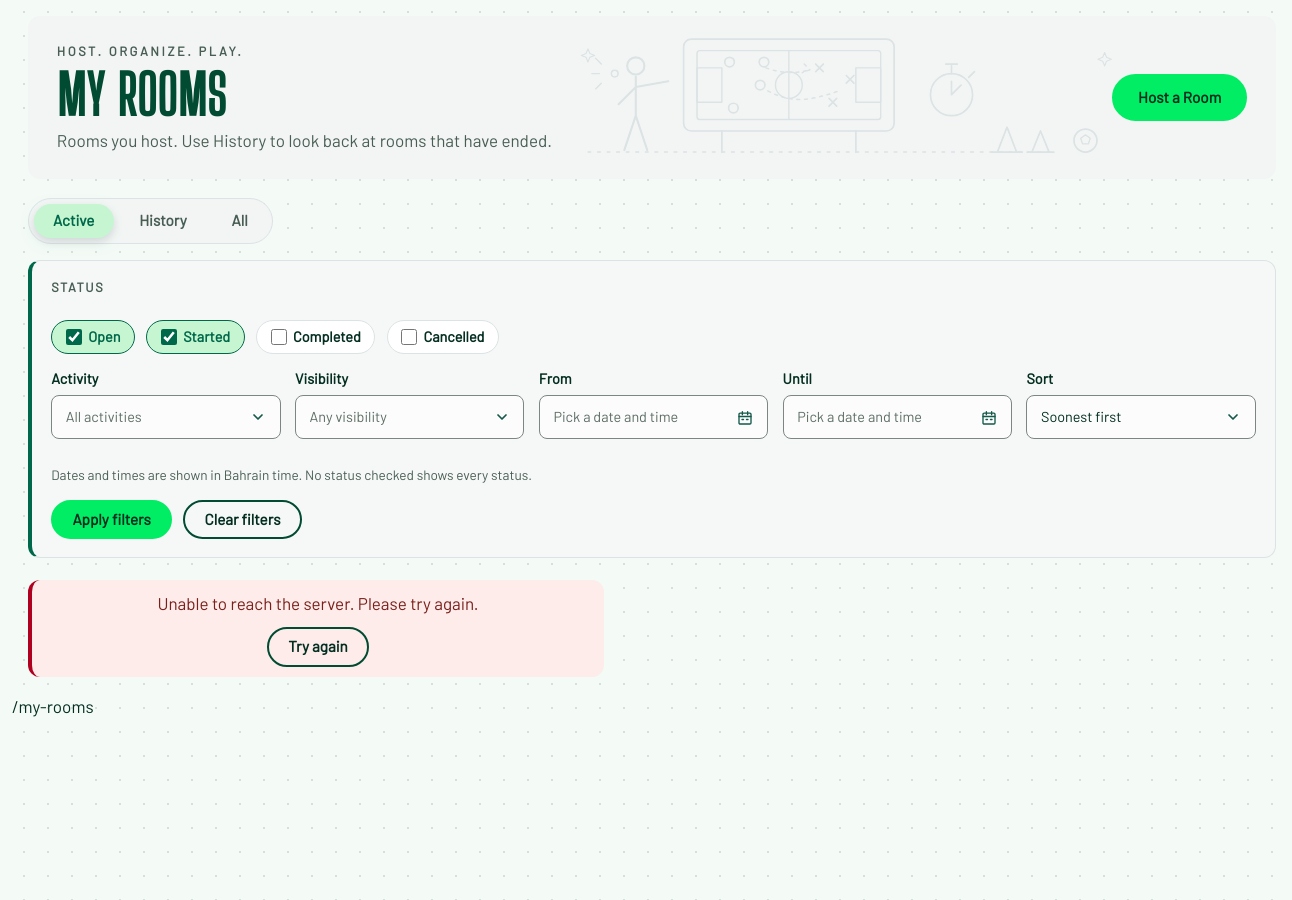
Test: My rooms page › shows a failed request with a retry button
expect the text "Unable to reach the server. Please try again." is shown: met, box [157, 590, 479, 616]
Click the button "Try again" at (318,647), box [267, 627, 369, 667]
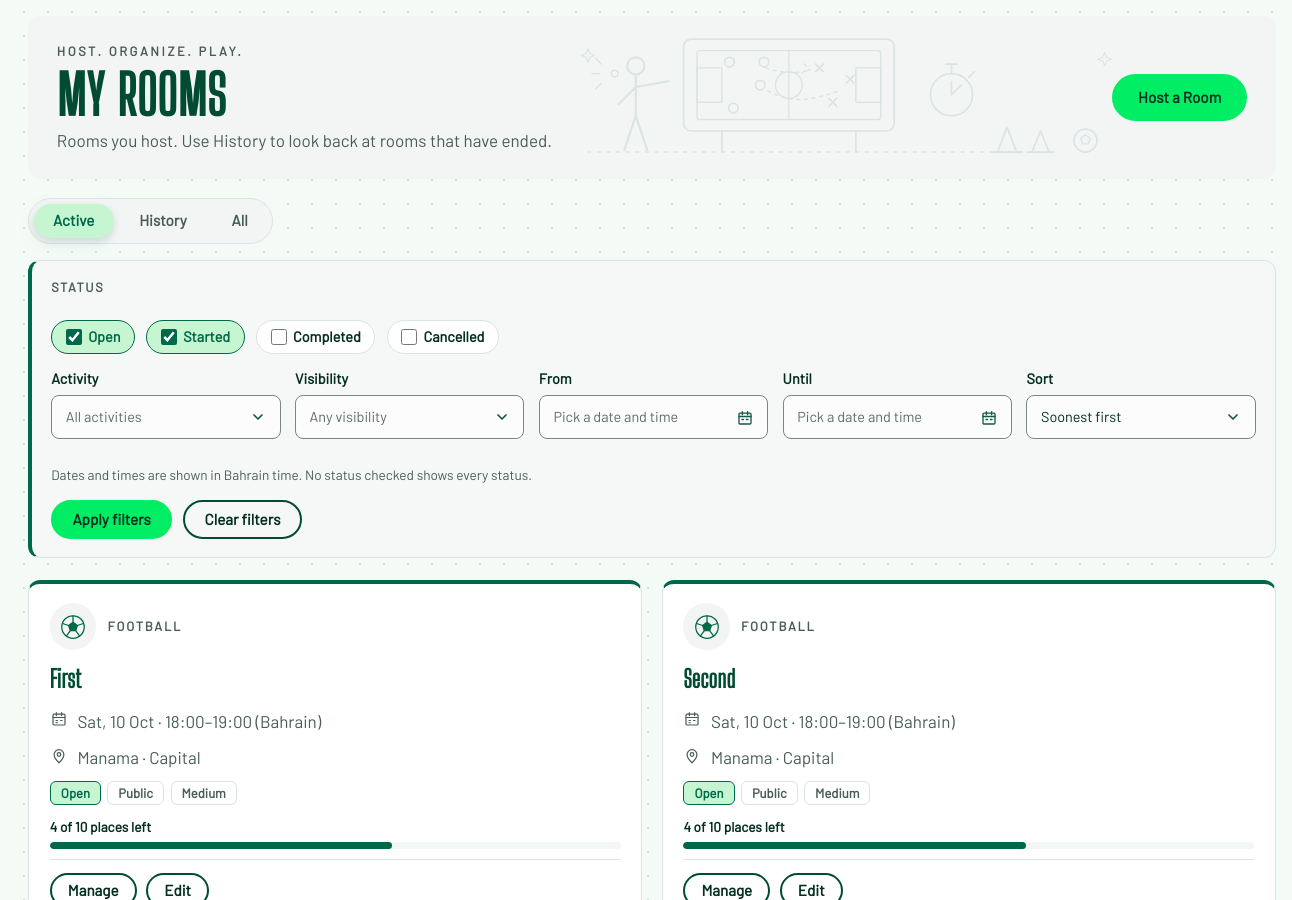
expect the heading "First" is shown: met, box [50, 664, 81, 693]
